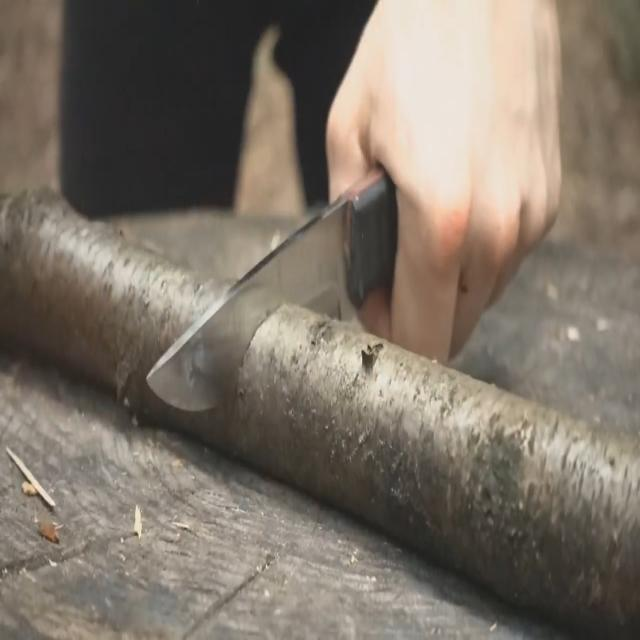knife: (143, 172, 393, 418)
